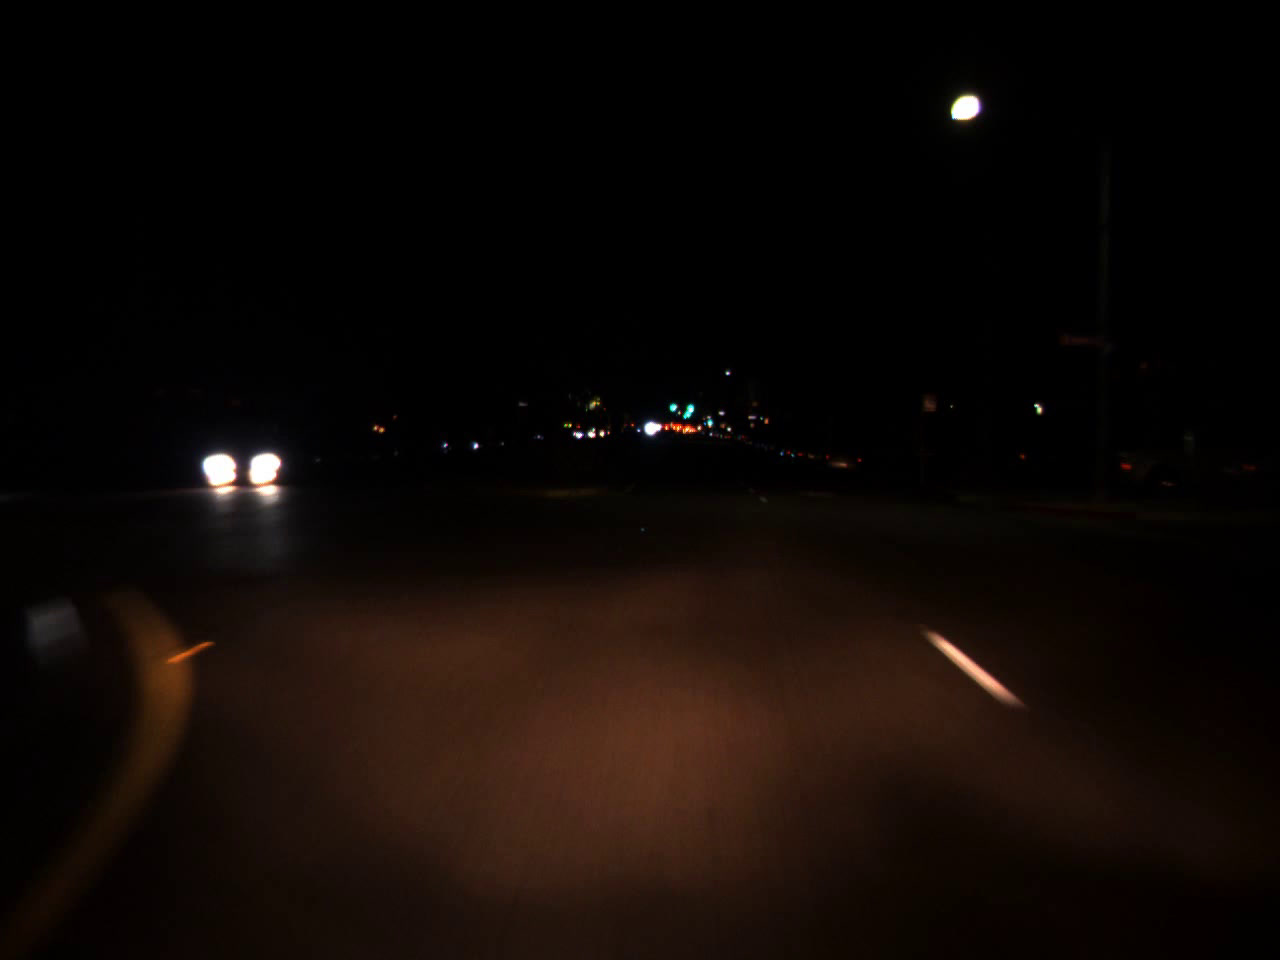go: (667, 396, 677, 414), (685, 395, 695, 413), (706, 412, 713, 427)
